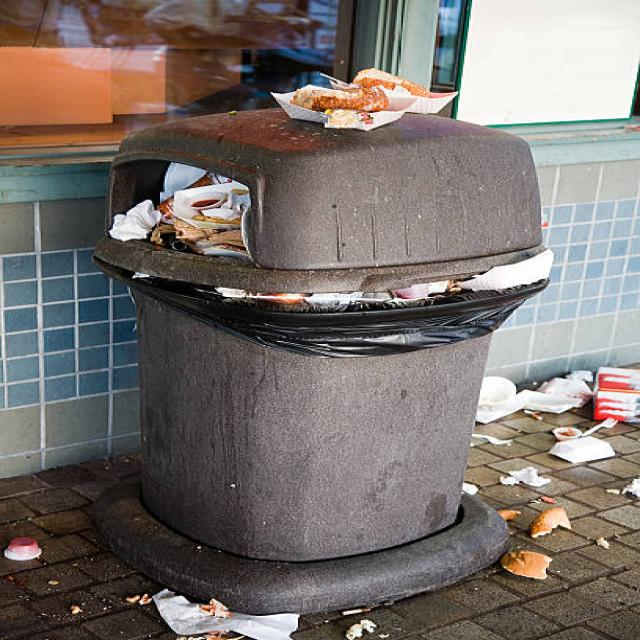cardboard: (587, 370, 635, 423)
paper: (121, 594, 290, 640)
trash: (100, 65, 499, 343), (492, 508, 593, 590)
